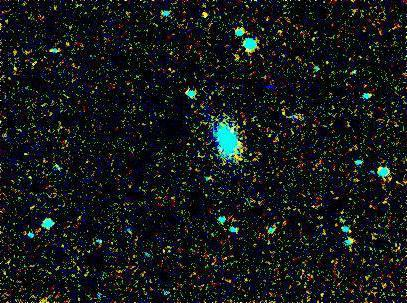star: (193, 0, 223, 28)
